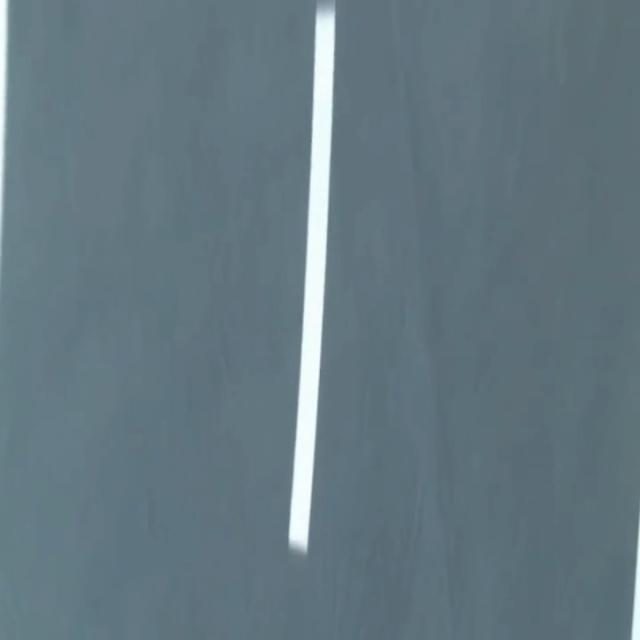center: (288, 3, 333, 553)
right: (631, 516, 639, 639)
